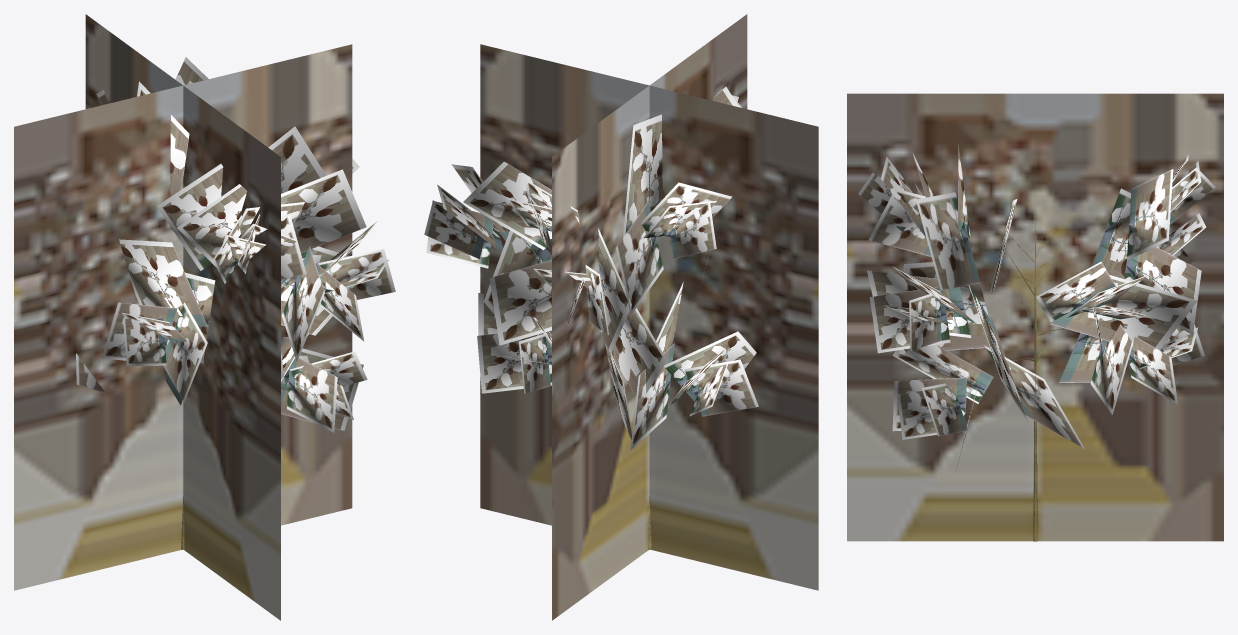
The model's file is Shrub1-3D.fbx.
The picture shows the model from 3 angles, left to right: view 1: azimuth 30°, elevation 25°; view 2: azimuth 150°, elevation 25°; view 3: azimuth 270°, elevation 25°; orthographic projection. The views are drawn at different scales.
Parts seen in each view (by area): view 1: Billboard-Shrub1-3D, Shrub1-3D_LOD0; view 2: Billboard-Shrub1-3D, Shrub1-3D_LOD0; view 3: Billboard-Shrub1-3D, Shrub1-3D_LOD0.
Boxes of the visible parts, left/top/right/bottom form: Billboard-Shrub1-3D: left=14, top=14, right=352, bottom=620; Shrub1-3D_LOD0: left=76, top=57, right=395, bottom=549; Billboard-Shrub1-3D: left=480, top=14, right=818, bottom=620; Shrub1-3D_LOD0: left=424, top=87, right=758, bottom=549; Billboard-Shrub1-3D: left=847, top=93, right=1223, bottom=541; Shrub1-3D_LOD0: left=858, top=145, right=1215, bottom=541.
Size of what is drawn, in the model's own units: 233 by 289 by 220.
